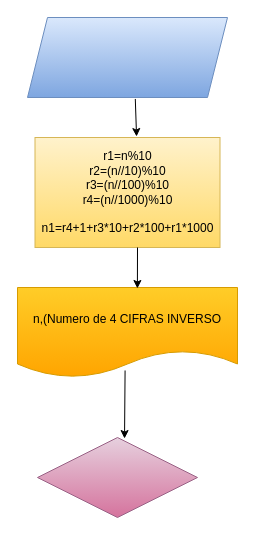
Some shapes in this 255 by 535 pixel diagram are drawn without their labels. The centre of each missing label's shape, as x and y in pixels:
"fin" goes at (117,477).
"n (Numero de 4 CIFRAS)" goes at (127,57).
